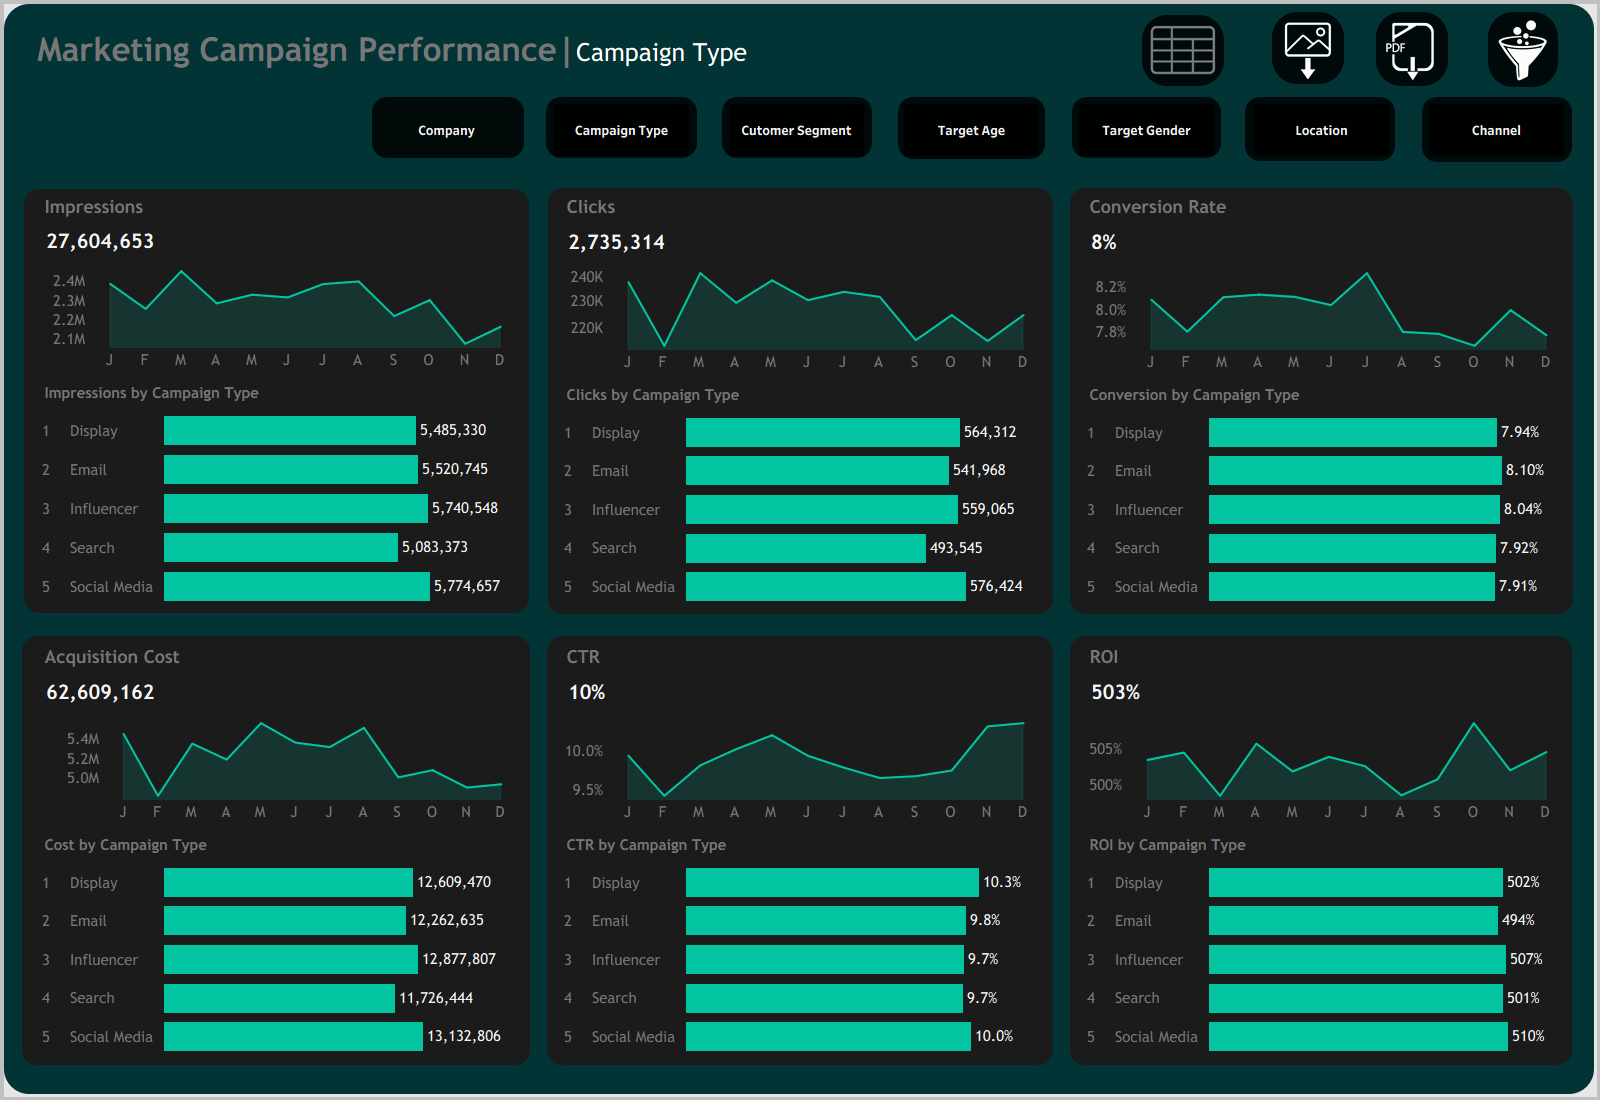

The dashboard page shown, as its layout file describes it:
{"tool":"tableau","page":{"name":"Campaign Type Page","canvas":[1600,1100],"ordinal":0},"visuals":[{"type":"worksheet","title":"Background Dashboard","mark":"Automatic","box":[0,0,1600,1100]},{"type":"blank","box":[0,0,1600,15]},{"type":"filter","title":"Clicks by Campaign Type","param":"[federated.1mnywug06xvtuc16vjv8v0i6xip0].[none:Channel_Used:nk]","box":[772,12,140.6,60]},{"type":"filter","title":"Clicks by Campaign Type","param":"[federated.1mnywug06xvtuc16vjv8v0i6xip0].[none:Company:nk]","box":[912.6,12,140.6,60]},{"type":"filter","title":"Clicks by Campaign Type","param":"[federated.1mnywug06xvtuc16vjv8v0i6xip0].[none:Calculation_1166370128986117:nk]","box":[1053.2,12,140.6,60]},{"type":"filter","title":"Clicks by Campaign Type","param":"[federated.1mnywug06xvtuc16vjv8v0i6xip0].[none:Target_Age:nk]","box":[1193.8,12,140.6,60]},{"type":"filter","title":"Clicks by Campaign Type","param":"[federated.1mnywug06xvtuc16vjv8v0i6xip0].[none:Target_Gender:nk]","box":[1334.4,12,140.6,60]},{"type":"text","box":[0,15,778,70]},{"type":"blank","box":[778,15,366,70]},{"type":"dashboard-object","box":[1144,15,77,70]},{"type":"blank","box":[1221,15,50,70]},{"type":"dashboard-object","box":[1271,15,73,70]},{"type":"blank","box":[1344,15,30,70]},{"type":"dashboard-object","box":[1374,15,70,70]},{"type":"blank","box":[1444,15,43,70]},{"type":"dashboard-object","box":[1487,15,70,70]},{"type":"blank","box":[1557,15,43,70]},{"type":"blank","box":[0,85,1600,15]},{"type":"blank","box":[0,90,4,207]},{"type":"dashboard-object","box":[4,90,39,35]},{"type":"text","box":[43,90,38,35]},{"type":"blank","box":[81,90,5,207]},{"type":"dashboard-object","box":[86,90,31,33]},{"type":"text","box":[117,90,161,33]},{"type":"blank","box":[278,90,5,207]},{"type":"dashboard-object","box":[283,90,30,33]},{"type":"text","box":[313,90,155,33]},{"type":"blank","box":[468,90,5,207]},{"type":"dashboard-object","box":[473,90,31,33]},{"type":"text","box":[504,90,119,33]},{"type":"blank","box":[623,90,5,207]},{"type":"dashboard-object","box":[628,90,31,33]},{"type":"text","box":[659.1,90,158,33]},{"type":"blank","box":[817.1,90,5,207]},{"type":"dashboard-object","box":[822.1,90,30,30]},{"type":"text","box":[852.1,90,144,30]},{"type":"blank","box":[996.1,90,5,207]},{"type":"dashboard-object","box":[1001.1,90,30,30]},{"type":"text","box":[1031.1,90,169,30]},{"type":"blank","box":[1200.1,90,5,207]},{"type":"dashboard-object","box":[1205.1,90,30,30]},{"type":"text","box":[1235.1,90,154,30]},{"type":"blank","box":[1389.1,90,5,207]},{"type":"dashboard-object","box":[1394.1,90,30,30]},{"type":"text","box":[1424.1,90,142,30]},{"type":"blank","box":[1566.1,90,30,207]},{"type":"blank","box":[0,100,343,60]},{"type":"blank","box":[343,100,32,60]},{"type":"dashboard-object","box":[375,100,143,60]},{"type":"blank","box":[518,100,32,60]},{"type":"dashboard-object","box":[550,100,143,60]},{"type":"blank","box":[693,100,32,60]},{"type":"dashboard-object","box":[725,100,143,60]},{"type":"blank","box":[868,100,32,60]},{"type":"dashboard-object","box":[900,100,143,60]},{"type":"blank","box":[1043,100,32,60]},{"type":"dashboard-object","box":[1075,100,143,60]},{"type":"blank","box":[1218,100,32,60]},{"type":"dashboard-object","box":[1250,100,143,60]},{"type":"blank","box":[1393,100,32,60]},{"type":"dashboard-object","box":[1425,100,143,60]},{"type":"blank","box":[1568,100,32,60]},{"type":"filter","title":"Detailed_Table","param":"[federated.1mnywug06xvtuc16vjv8v0i6xip0].[none:Channel_Used:nk]","box":[822.1,120,174,58]},{"type":"filter","title":"Detailed_Table","param":"[federated.1mnywug06xvtuc16vjv8v0i6xip0].[usr:Calculation_1851639007813637:qk]","box":[1001.1,120,199,51]},{"type":"filter","title":"Detailed_Table","param":"[federated.1mnywug06xvtuc16vjv8v0i6xip0].[usr:Calculation_1851639006334976:qk]","box":[1205.1,120,184,33]},{"type":"filter","title":"Detailed_Table","param":"[federated.1mnywug06xvtuc16vjv8v0i6xip0].[usr:Calculation_1851639007145986:qk]","box":[1394.1,120,172,51]},{"type":"filter","title":"Detailed_Table","param":"[federated.1mnywug06xvtuc16vjv8v0i6xip0].[none:Company:nk]","box":[86,123,192,58]},{"type":"filter","title":"Detailed_Table","param":"[federated.1mnywug06xvtuc16vjv8v0i6xip0].[none:Customer_Segment:nk]","box":[283,123,185,58]},{"type":"filter","title":"Detailed_Table","param":"[federated.1mnywug06xvtuc16vjv8v0i6xip0].[tdy:Date:qk]","box":[473,123,150,68]},{"type":"filter","title":"Detailed_Table","param":"[federated.1mnywug06xvtuc16vjv8v0i6xip0].[none:Calculation_1166370128986117:nk]","box":[628,123,189,58]},{"type":"filter","title":"Detailed_Table","param":"[federated.1mnywug06xvtuc16vjv8v0i6xip0].[none:Campaign_ID (Dim!Campaign):nk]","box":[4,125,77,35]},{"type":"blank","box":[0,160,32,932]},{"type":"blank","box":[32,160,490,32]},{"type":"blank","box":[522,160,32,932]},{"type":"blank","box":[554.1,160,490.9,32]},{"type":"blank","box":[1045,160,32,932]},{"type":"blank","box":[1077,160,490.9,32]},{"type":"blank","box":[1567.9,160,32,932]},{"type":"filter","title":"Detailed_Table","param":"[federated.1mnywug06xvtuc16vjv8v0i6xip0].[none:Campaign_Type:nk]","box":[86,181,192,58]},{"type":"filter","title":"Detailed_Table","param":"[federated.1mnywug06xvtuc16vjv8v0i6xip0].[none:Target_Age:nk]","box":[283,181,185,58]},{"type":"filter","title":"Detailed_Table","param":"[federated.1mnywug06xvtuc16vjv8v0i6xip0].[none:Location:nk]","box":[628,181,189,58]},{"type":"filter","title":"Detailed_Table","param":"[federated.1mnywug06xvtuc16vjv8v0i6xip0].[none:Weekday:nk]","box":[473,191,150,58]},{"type":"text","box":[32,192,490,29]},{"type":"text","box":[554.1,192,490.9,29]},{"type":"text","box":[1077,192,490.9,29]},{"type":"worksheet","title":"BAN Impressions","mark":"Automatic","box":[32,221,490,41]},{"type":"worksheet","title":"BAN Clicks","mark":"Automatic","box":[554.1,221,490.9,43]},{"type":"worksheet","title":"BAN Conversion","mark":"Automatic","box":[1077,221,490.9,43]},{"type":"filter","title":"Detailed_Table","param":"[federated.1mnywug06xvtuc16vjv8v0i6xip0].[none:Target_Gender:nk]","box":[283,239,185,58]},{"type":"worksheet","title":"Impressions by Year","mark":"Line","rows":["Calculation_1851639006334976","Calculation_1851639006334976"],"cols":["Date"],"box":[32,262,490,112]},{"type":"worksheet","title":"Clicks by Year","mark":"Line","rows":["Calculation_1851639006855169","Calculation_1851639006855169"],"cols":["Date"],"box":[554.1,264,490.9,112]},{"type":"worksheet","title":"Conversion by Year","mark":"Line","rows":["Calculation_1851639007629316","Calculation_1851639007629316"],"cols":["Date"],"box":[1077,264,490.9,112]},{"type":"worksheet","title":"Detailed_Table","mark":"Shape","rows":["Campaign_ID (Dim!Campaign)"],"cols":["Calculation_2238670781300739","Calculation_2238670781300739","Calculation_2238670781300739","Calculation_2238670781300739","Calculation_2238670781300739","Calculation_2238670781300739","Calculation_2238670781300739","Calculation_2238670781300739"],"box":[0,297,1600,803]},{"type":"worksheet","title":"Impressions by Campaign Type","mark":"Bar","rows":["Calculation_1166370116337667","Campaign_Type"],"cols":["Calculation_1851639006334976"],"box":[32,374,490,236]},{"type":"worksheet","title":"Clicks by Campaign Type","mark":"Bar","rows":["Calculation_1166370116337667","Campaign_Type"],"cols":["Calculation_1851639006855169"],"box":[554.1,376,490.9,234]},{"type":"worksheet","title":"Conversion by Campaign Type","mark":"Bar","rows":["Calculation_1166370116337667","Campaign_Type"],"cols":["Calculation_1851639007629316"],"box":[1077,376,490.9,234]},{"type":"blank","box":[32,610,490,32]},{"type":"blank","box":[554.1,610,490.9,32]},{"type":"blank","box":[1077,610,490.9,32]},{"type":"text","box":[32,642,490,29]},{"type":"text","box":[554.1,642,490.9,29]},{"type":"text","box":[1077,642,490.9,29]},{"type":"worksheet","title":"BAN Cost","mark":"Automatic","box":[32,671,490,43]},{"type":"worksheet","title":"BAN CTR","mark":"Automatic","box":[554.1,671,490.9,43]},{"type":"worksheet","title":"BAN ROI","mark":"Automatic","box":[1077,671,490.9,43]},{"type":"worksheet","title":"Cost by Year","mark":"Line","rows":["Calculation_1851639007813637","Calculation_1851639007813637"],"cols":["Date"],"box":[32,714,490,112]},{"type":"worksheet","title":"CTR by Year","mark":"Line","rows":["Calculation_1851639007145986","Calculation_1851639007145986"],"cols":["Date"],"box":[554.1,714,490.9,112]},{"type":"worksheet","title":"ROI by Year","mark":"Line","rows":["Calculation_1851639007985670","Calculation_1851639007985670"],"cols":["Date"],"box":[1077,714,490.9,112]},{"type":"worksheet","title":"Cost by Campaign Type","mark":"Bar","rows":["Calculation_1166370116337667","Campaign_Type"],"cols":["Calculation_1851639007813637"],"box":[32,826,490,234]},{"type":"worksheet","title":"CTR by Campaign Type","mark":"Bar","rows":["Calculation_1166370116337667","Campaign_Type"],"cols":["Calculation_1851639007145986"],"box":[554.1,826,490.9,234]},{"type":"worksheet","title":"ROI by Campaign Type","mark":"Bar","rows":["Calculation_1166370116337667","Campaign_Type"],"cols":["Calculation_1851639007985670"],"box":[1077,826,490.9,234]},{"type":"blank","box":[32,1060,490,32]},{"type":"blank","box":[554.1,1060,490.9,32]},{"type":"blank","box":[1077,1060,490.9,32]}]}

Visuals, with their boxes in screenshot pixels (x1, y1, x2, y2), scaled from the page's 1600x1100 canvas onto the 1600x1100 screenshot:
"Background Dashboard" worksheet: (x1=0, y1=0, x2=1599, y2=1099)
blank: (x1=0, y1=0, x2=1599, y2=15)
"Clicks by Campaign Type" filter: (x1=772, y1=12, x2=913, y2=72)
"Clicks by Campaign Type" filter: (x1=913, y1=12, x2=1053, y2=72)
"Clicks by Campaign Type" filter: (x1=1053, y1=12, x2=1194, y2=72)
"Clicks by Campaign Type" filter: (x1=1194, y1=12, x2=1334, y2=72)
"Clicks by Campaign Type" filter: (x1=1334, y1=12, x2=1475, y2=72)
text: (x1=0, y1=15, x2=778, y2=85)
blank: (x1=778, y1=15, x2=1144, y2=85)
dashboard-object: (x1=1144, y1=15, x2=1221, y2=85)
blank: (x1=1221, y1=15, x2=1271, y2=85)
dashboard-object: (x1=1271, y1=15, x2=1344, y2=85)
blank: (x1=1344, y1=15, x2=1374, y2=85)
dashboard-object: (x1=1374, y1=15, x2=1444, y2=85)
blank: (x1=1444, y1=15, x2=1487, y2=85)
dashboard-object: (x1=1487, y1=15, x2=1557, y2=85)
blank: (x1=1557, y1=15, x2=1599, y2=85)
blank: (x1=0, y1=85, x2=1599, y2=100)
blank: (x1=0, y1=90, x2=4, y2=297)
dashboard-object: (x1=4, y1=90, x2=43, y2=125)
text: (x1=43, y1=90, x2=81, y2=125)
blank: (x1=81, y1=90, x2=86, y2=297)
dashboard-object: (x1=86, y1=90, x2=117, y2=123)
text: (x1=117, y1=90, x2=278, y2=123)
blank: (x1=278, y1=90, x2=283, y2=297)
dashboard-object: (x1=283, y1=90, x2=313, y2=123)
text: (x1=313, y1=90, x2=468, y2=123)
blank: (x1=468, y1=90, x2=473, y2=297)
dashboard-object: (x1=473, y1=90, x2=504, y2=123)
text: (x1=504, y1=90, x2=623, y2=123)
blank: (x1=623, y1=90, x2=628, y2=297)
dashboard-object: (x1=628, y1=90, x2=659, y2=123)
text: (x1=659, y1=90, x2=817, y2=123)
blank: (x1=817, y1=90, x2=822, y2=297)
dashboard-object: (x1=822, y1=90, x2=852, y2=120)
text: (x1=852, y1=90, x2=996, y2=120)
blank: (x1=996, y1=90, x2=1001, y2=297)
dashboard-object: (x1=1001, y1=90, x2=1031, y2=120)
text: (x1=1031, y1=90, x2=1200, y2=120)
blank: (x1=1200, y1=90, x2=1205, y2=297)
dashboard-object: (x1=1205, y1=90, x2=1235, y2=120)
text: (x1=1235, y1=90, x2=1389, y2=120)
blank: (x1=1389, y1=90, x2=1394, y2=297)
dashboard-object: (x1=1394, y1=90, x2=1424, y2=120)
text: (x1=1424, y1=90, x2=1566, y2=120)
blank: (x1=1566, y1=90, x2=1596, y2=297)
blank: (x1=0, y1=100, x2=343, y2=160)
blank: (x1=343, y1=100, x2=375, y2=160)
dashboard-object: (x1=375, y1=100, x2=518, y2=160)
blank: (x1=518, y1=100, x2=550, y2=160)
dashboard-object: (x1=550, y1=100, x2=693, y2=160)
blank: (x1=693, y1=100, x2=725, y2=160)
dashboard-object: (x1=725, y1=100, x2=868, y2=160)
blank: (x1=868, y1=100, x2=900, y2=160)
dashboard-object: (x1=900, y1=100, x2=1043, y2=160)
blank: (x1=1043, y1=100, x2=1075, y2=160)
dashboard-object: (x1=1075, y1=100, x2=1218, y2=160)
blank: (x1=1218, y1=100, x2=1250, y2=160)
dashboard-object: (x1=1250, y1=100, x2=1393, y2=160)
blank: (x1=1393, y1=100, x2=1425, y2=160)
dashboard-object: (x1=1425, y1=100, x2=1568, y2=160)
blank: (x1=1568, y1=100, x2=1599, y2=160)
"Detailed_Table" filter: (x1=822, y1=120, x2=996, y2=178)
"Detailed_Table" filter: (x1=1001, y1=120, x2=1200, y2=171)
"Detailed_Table" filter: (x1=1205, y1=120, x2=1389, y2=153)
"Detailed_Table" filter: (x1=1394, y1=120, x2=1566, y2=171)
"Detailed_Table" filter: (x1=86, y1=123, x2=278, y2=181)
"Detailed_Table" filter: (x1=283, y1=123, x2=468, y2=181)
"Detailed_Table" filter: (x1=473, y1=123, x2=623, y2=191)
"Detailed_Table" filter: (x1=628, y1=123, x2=817, y2=181)
"Detailed_Table" filter: (x1=4, y1=125, x2=81, y2=160)
blank: (x1=0, y1=160, x2=32, y2=1092)
blank: (x1=32, y1=160, x2=522, y2=192)
blank: (x1=522, y1=160, x2=554, y2=1092)
blank: (x1=554, y1=160, x2=1045, y2=192)
blank: (x1=1045, y1=160, x2=1077, y2=1092)
blank: (x1=1077, y1=160, x2=1568, y2=192)
blank: (x1=1568, y1=160, x2=1599, y2=1092)
"Detailed_Table" filter: (x1=86, y1=181, x2=278, y2=239)
"Detailed_Table" filter: (x1=283, y1=181, x2=468, y2=239)
"Detailed_Table" filter: (x1=628, y1=181, x2=817, y2=239)
"Detailed_Table" filter: (x1=473, y1=191, x2=623, y2=249)
text: (x1=32, y1=192, x2=522, y2=221)
text: (x1=554, y1=192, x2=1045, y2=221)
text: (x1=1077, y1=192, x2=1568, y2=221)
"BAN Impressions" worksheet: (x1=32, y1=221, x2=522, y2=262)
"BAN Clicks" worksheet: (x1=554, y1=221, x2=1045, y2=264)
"BAN Conversion" worksheet: (x1=1077, y1=221, x2=1568, y2=264)
"Detailed_Table" filter: (x1=283, y1=239, x2=468, y2=297)
"Impressions by Year" worksheet (Line marks): (x1=32, y1=262, x2=522, y2=374)
"Clicks by Year" worksheet (Line marks): (x1=554, y1=264, x2=1045, y2=376)
"Conversion by Year" worksheet (Line marks): (x1=1077, y1=264, x2=1568, y2=376)
"Detailed_Table" worksheet (Shape marks): (x1=0, y1=297, x2=1599, y2=1099)
"Impressions by Campaign Type" worksheet (Bar marks): (x1=32, y1=374, x2=522, y2=610)
"Clicks by Campaign Type" worksheet (Bar marks): (x1=554, y1=376, x2=1045, y2=610)
"Conversion by Campaign Type" worksheet (Bar marks): (x1=1077, y1=376, x2=1568, y2=610)
blank: (x1=32, y1=610, x2=522, y2=642)
blank: (x1=554, y1=610, x2=1045, y2=642)
blank: (x1=1077, y1=610, x2=1568, y2=642)
text: (x1=32, y1=642, x2=522, y2=671)
text: (x1=554, y1=642, x2=1045, y2=671)
text: (x1=1077, y1=642, x2=1568, y2=671)
"BAN Cost" worksheet: (x1=32, y1=671, x2=522, y2=714)
"BAN CTR" worksheet: (x1=554, y1=671, x2=1045, y2=714)
"BAN ROI" worksheet: (x1=1077, y1=671, x2=1568, y2=714)
"Cost by Year" worksheet (Line marks): (x1=32, y1=714, x2=522, y2=826)
"CTR by Year" worksheet (Line marks): (x1=554, y1=714, x2=1045, y2=826)
"ROI by Year" worksheet (Line marks): (x1=1077, y1=714, x2=1568, y2=826)
"Cost by Campaign Type" worksheet (Bar marks): (x1=32, y1=826, x2=522, y2=1060)
"CTR by Campaign Type" worksheet (Bar marks): (x1=554, y1=826, x2=1045, y2=1060)
"ROI by Campaign Type" worksheet (Bar marks): (x1=1077, y1=826, x2=1568, y2=1060)
blank: (x1=32, y1=1060, x2=522, y2=1092)
blank: (x1=554, y1=1060, x2=1045, y2=1092)
blank: (x1=1077, y1=1060, x2=1568, y2=1092)
